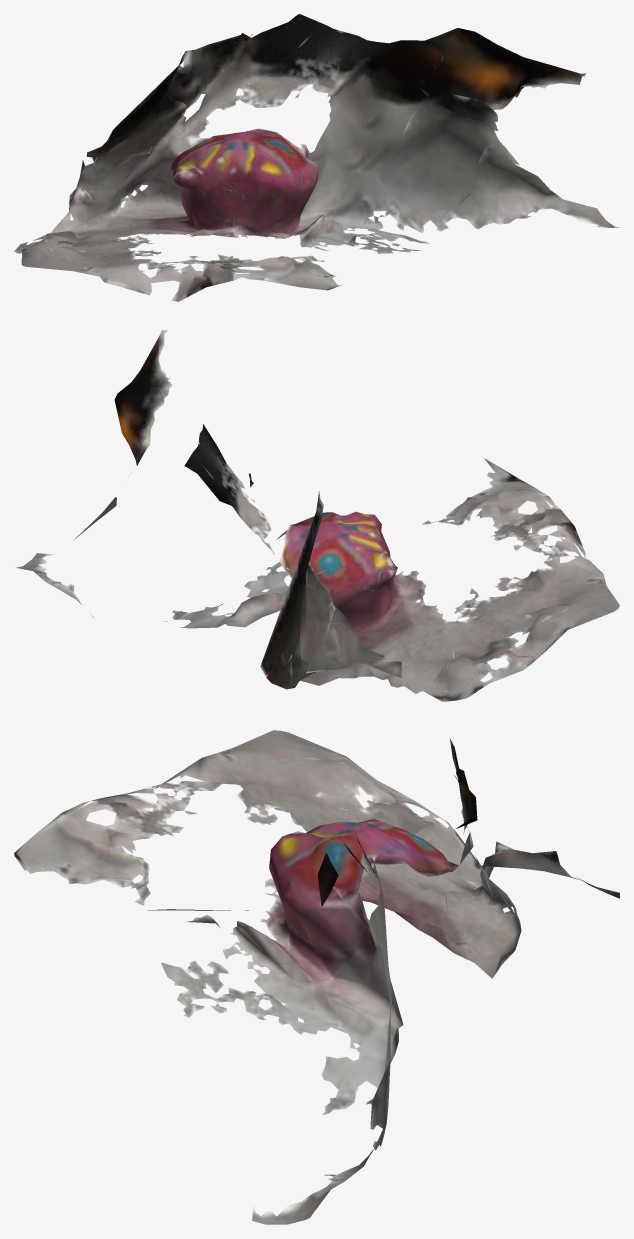
File: hall.glb
The picture shows the model from 3 angles, top to bottom: view 1: azimuth 30°, elevation 25°; view 2: azimuth 150°, elevation 25°; view 3: azimuth 270°, elevation 25°; orthographic projection. The views are drawn at different scales.
Bounding box in the file's own units: 1.57 × 0.5526 × 1.1.
Materials: 1 (1 with a texture image).
